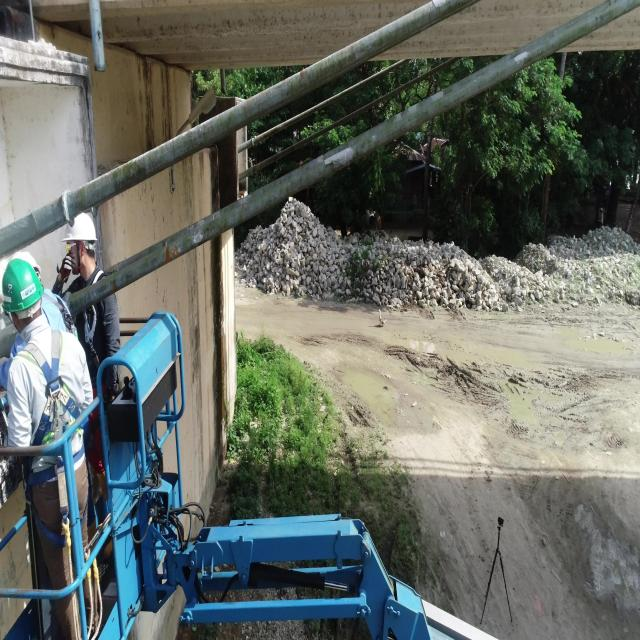corrosion: (165, 246, 170, 263), (172, 247, 179, 258), (299, 70, 307, 78), (112, 280, 117, 292)
crack: (240, 204, 244, 217), (427, 4, 430, 15), (259, 91, 262, 102), (220, 114, 222, 125), (265, 90, 267, 100), (342, 49, 344, 58), (332, 55, 334, 64), (269, 88, 271, 97), (243, 102, 246, 108), (326, 60, 328, 68), (322, 60, 324, 68), (256, 96, 258, 104), (252, 97, 254, 105), (135, 160, 137, 167), (334, 58, 336, 64), (328, 59, 330, 65), (298, 74, 300, 80), (424, 8, 425, 16)
